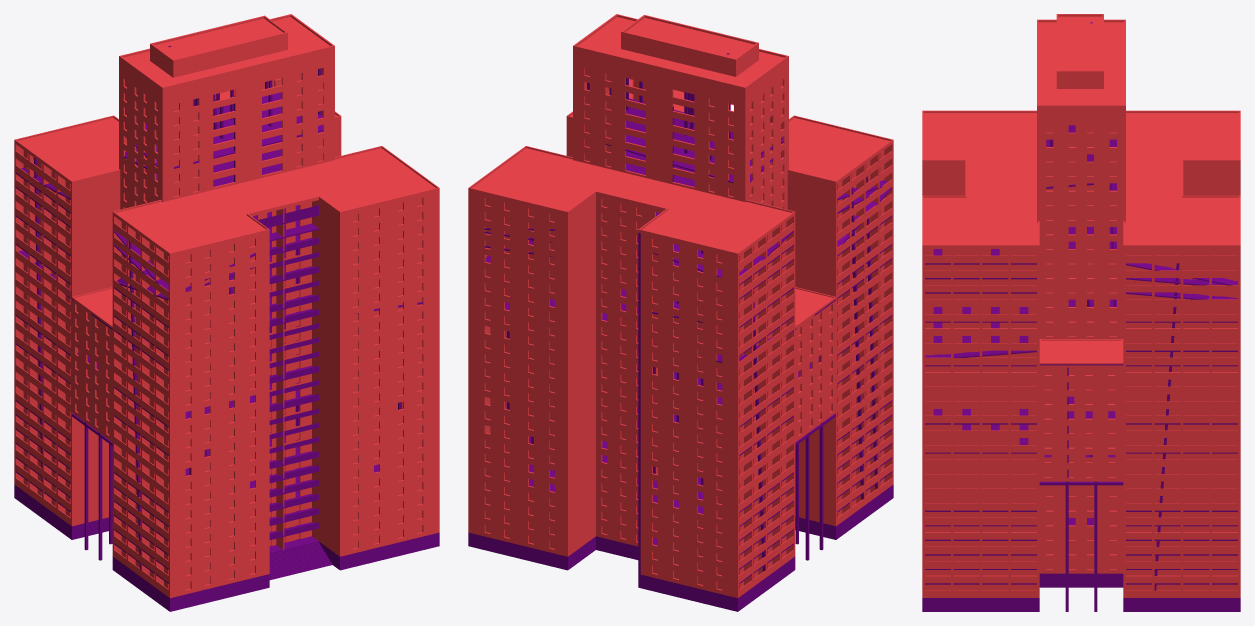
File: Building_02_3.FBX
3 views of the same model, side by side, from view 1: azimuth 30°, elevation 25°; view 2: azimuth 150°, elevation 25°; view 3: azimuth 270°, elevation 25° (orthographic). The views are drawn at different scales.
Visible parts, largest first — view 1: Building_02_3; view 2: Building_02_3; view 3: Building_02_3.
Boxes of the visible parts, <box> form: Building_02_3: <box>14,14,439,611</box>; Building_02_3: <box>468,14,893,611</box>; Building_02_3: <box>922,14,1240,611</box>.
Bounding box in the file's own units: 89604 × 154541 × 89614.
